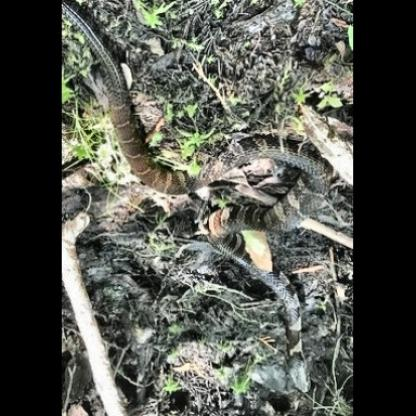Snake: (83, 8, 337, 412)
